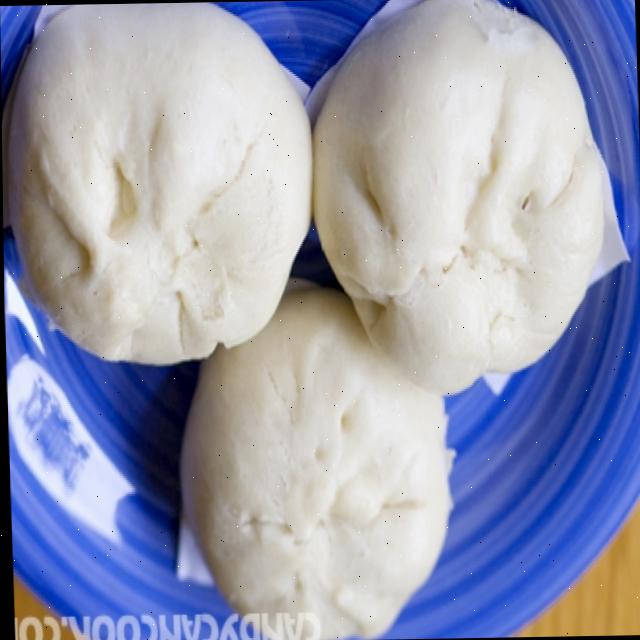带馅早点: (4, 0, 636, 640)
